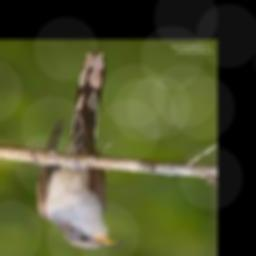Cuckoo: (37, 52, 126, 248)
